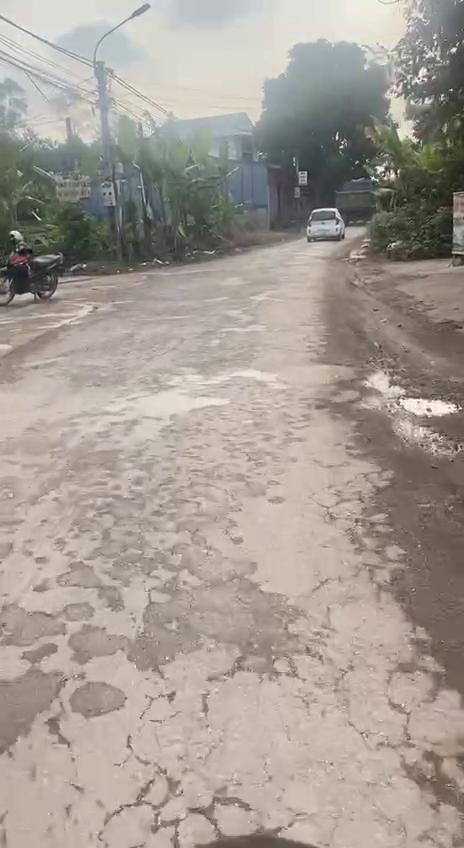pothole: (320, 459, 448, 594), (96, 760, 282, 848), (365, 366, 464, 460), (398, 732, 464, 812)
